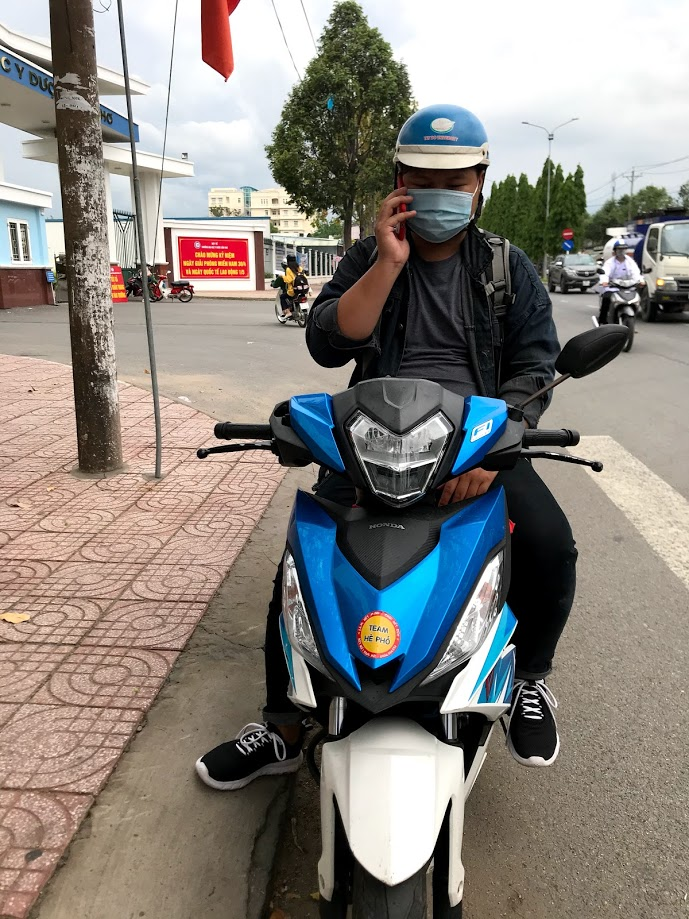dieu khien xe may: (276, 91, 525, 734)
su dung dien thoai: (369, 106, 491, 283)
